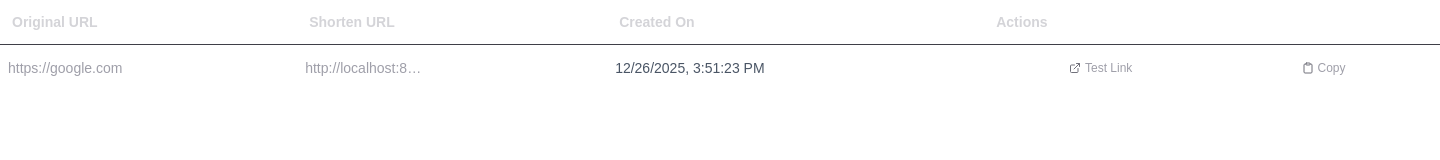
Test: ShortLinksList validation › copies short URL to clipboard
The width and height of the screenshot is (1440, 160).
Click the button "Copy" at coordinates (1324, 68), box [1215,53,1432,83]
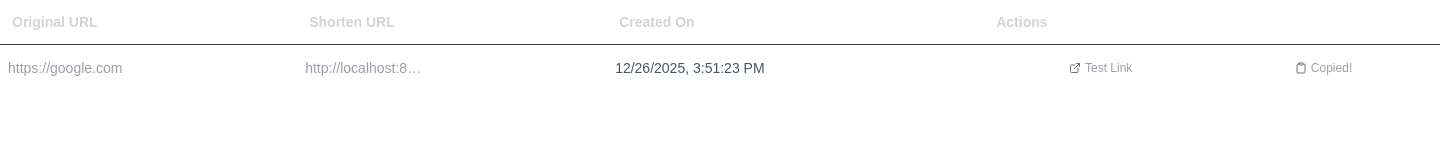
Now the text "Copied!" is shown, box [1311,60,1352,76]
